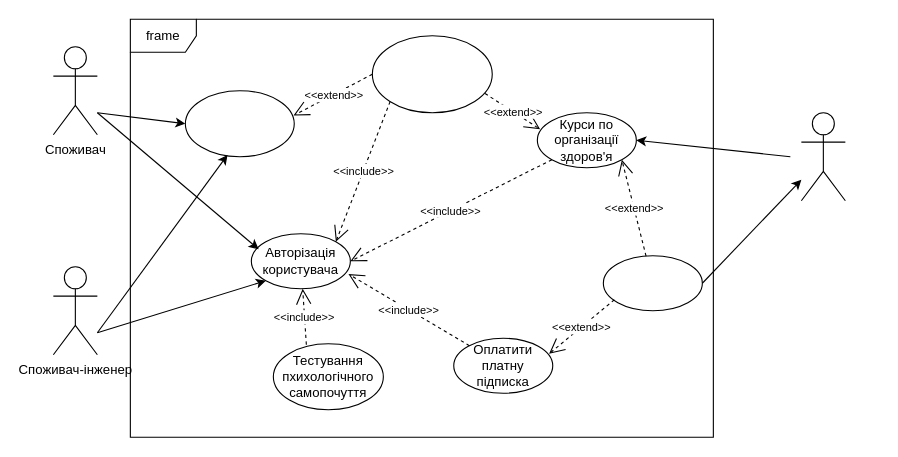
This 898x457 diagram has some shape labels left out. The shapes that lost their labels are listed below. From the top down, each one's box as (x1, y1, x2, y2) in pixels, then its label:
(371, 35, 492, 113): Переглядивитись та записати дані про сон
(184, 90, 294, 157): Корисна інформація про налаштування дня
(800, 112, 845, 201): Працівник сервісу
(602, 255, 702, 311): Google Pay
